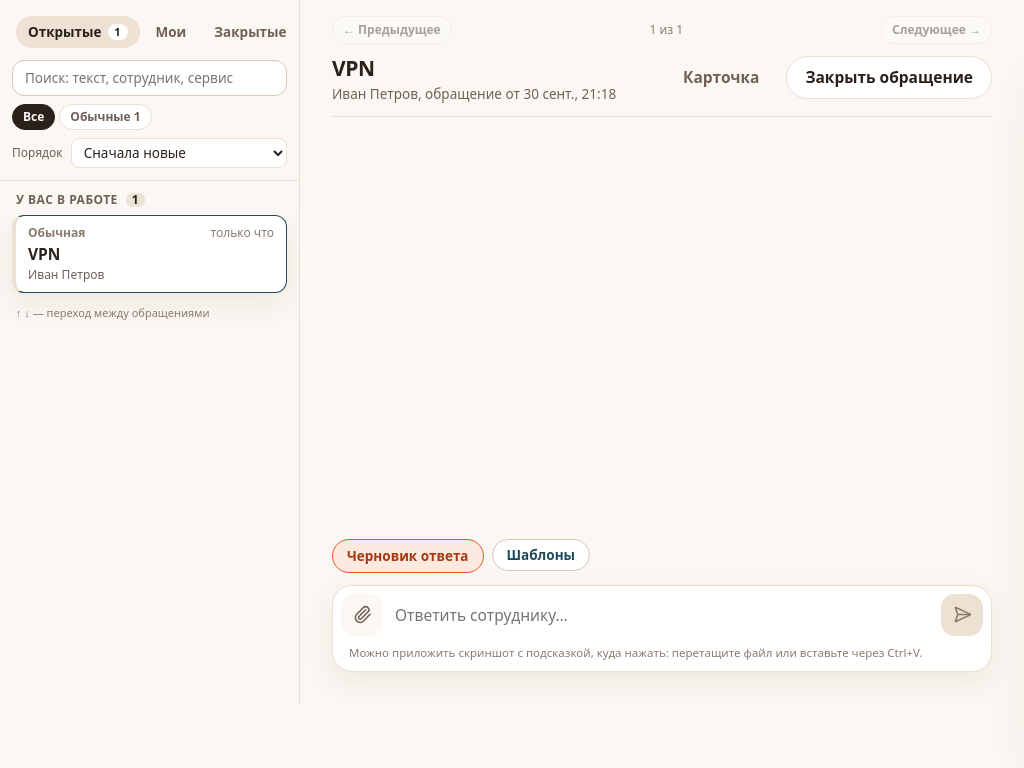
it: the specialist's reply draft › puts a draft written from the card into the reply box
The image size is (1024, 768).
Click the button "Черновик ответа". click: [408, 556]
box: [332,538,484,573]
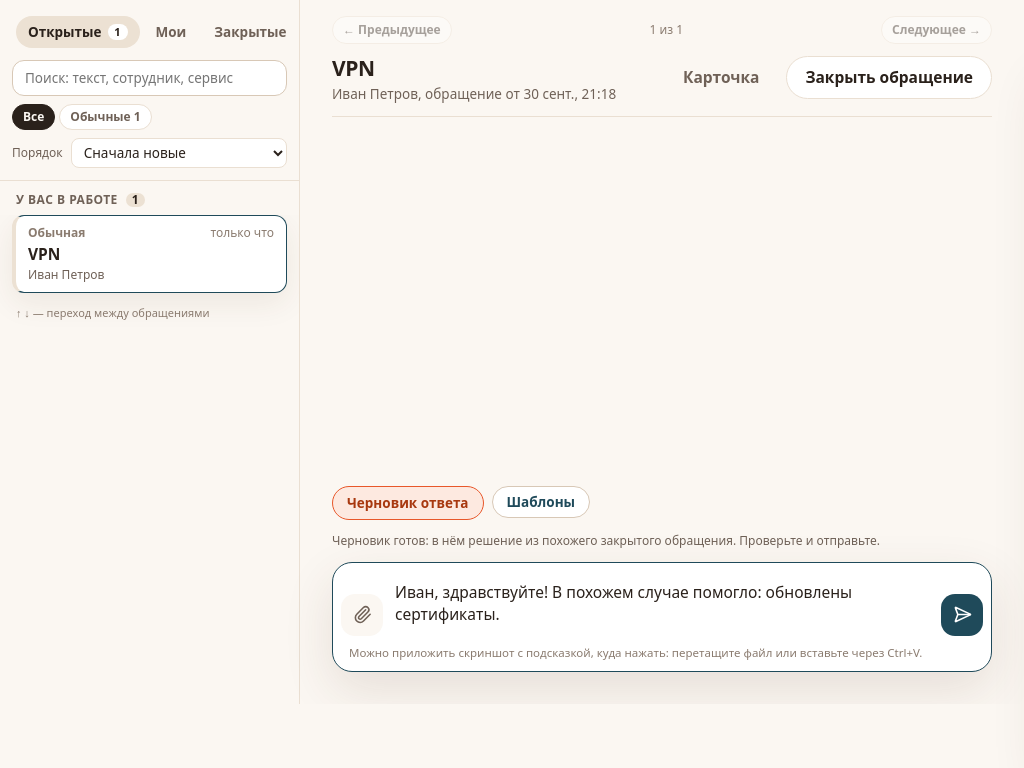
Now the text box named "Ответ сотруднику" holds "Иван, здравствуйте! В похожем случае помогло: обновлены сертификаты.", box [391,571,933,636]
Now the text "решение из похожего закрытого обращения" is shown, box [332,532,880,549]
